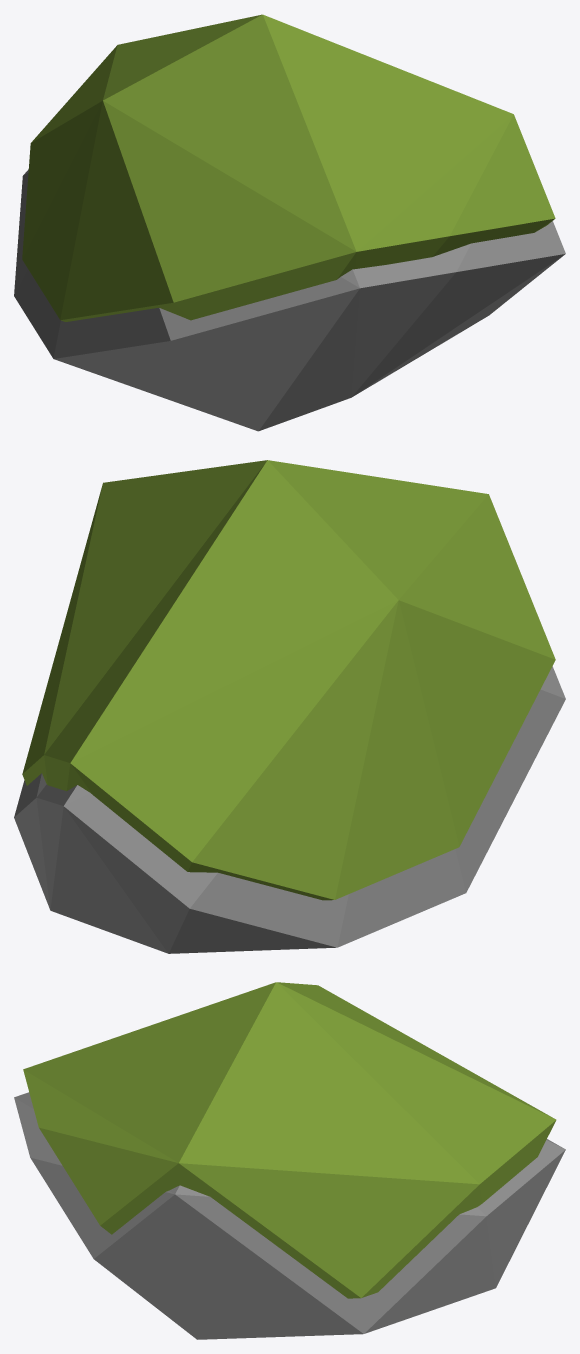
File: Stone_2_moss.fbx
The picture shows the model from 3 angles, top to bottom: view 1: azimuth 30°, elevation 25°; view 2: azimuth 150°, elevation 25°; view 3: azimuth 270°, elevation 25°; orthographic projection. The views are drawn at different scales.
Parts seen in each view (by area): view 1: Stone_2_moss; view 2: Stone_2_moss; view 3: Stone_2_moss.
Boxes of the visible parts, left/top/right/bottom form: Stone_2_moss: left=14, top=14, right=565, bottom=431; Stone_2_moss: left=14, top=460, right=565, bottom=953; Stone_2_moss: left=14, top=982, right=565, bottom=1339.
Bounding box in the file's own units: 27.27 × 20.73 × 37.23.
